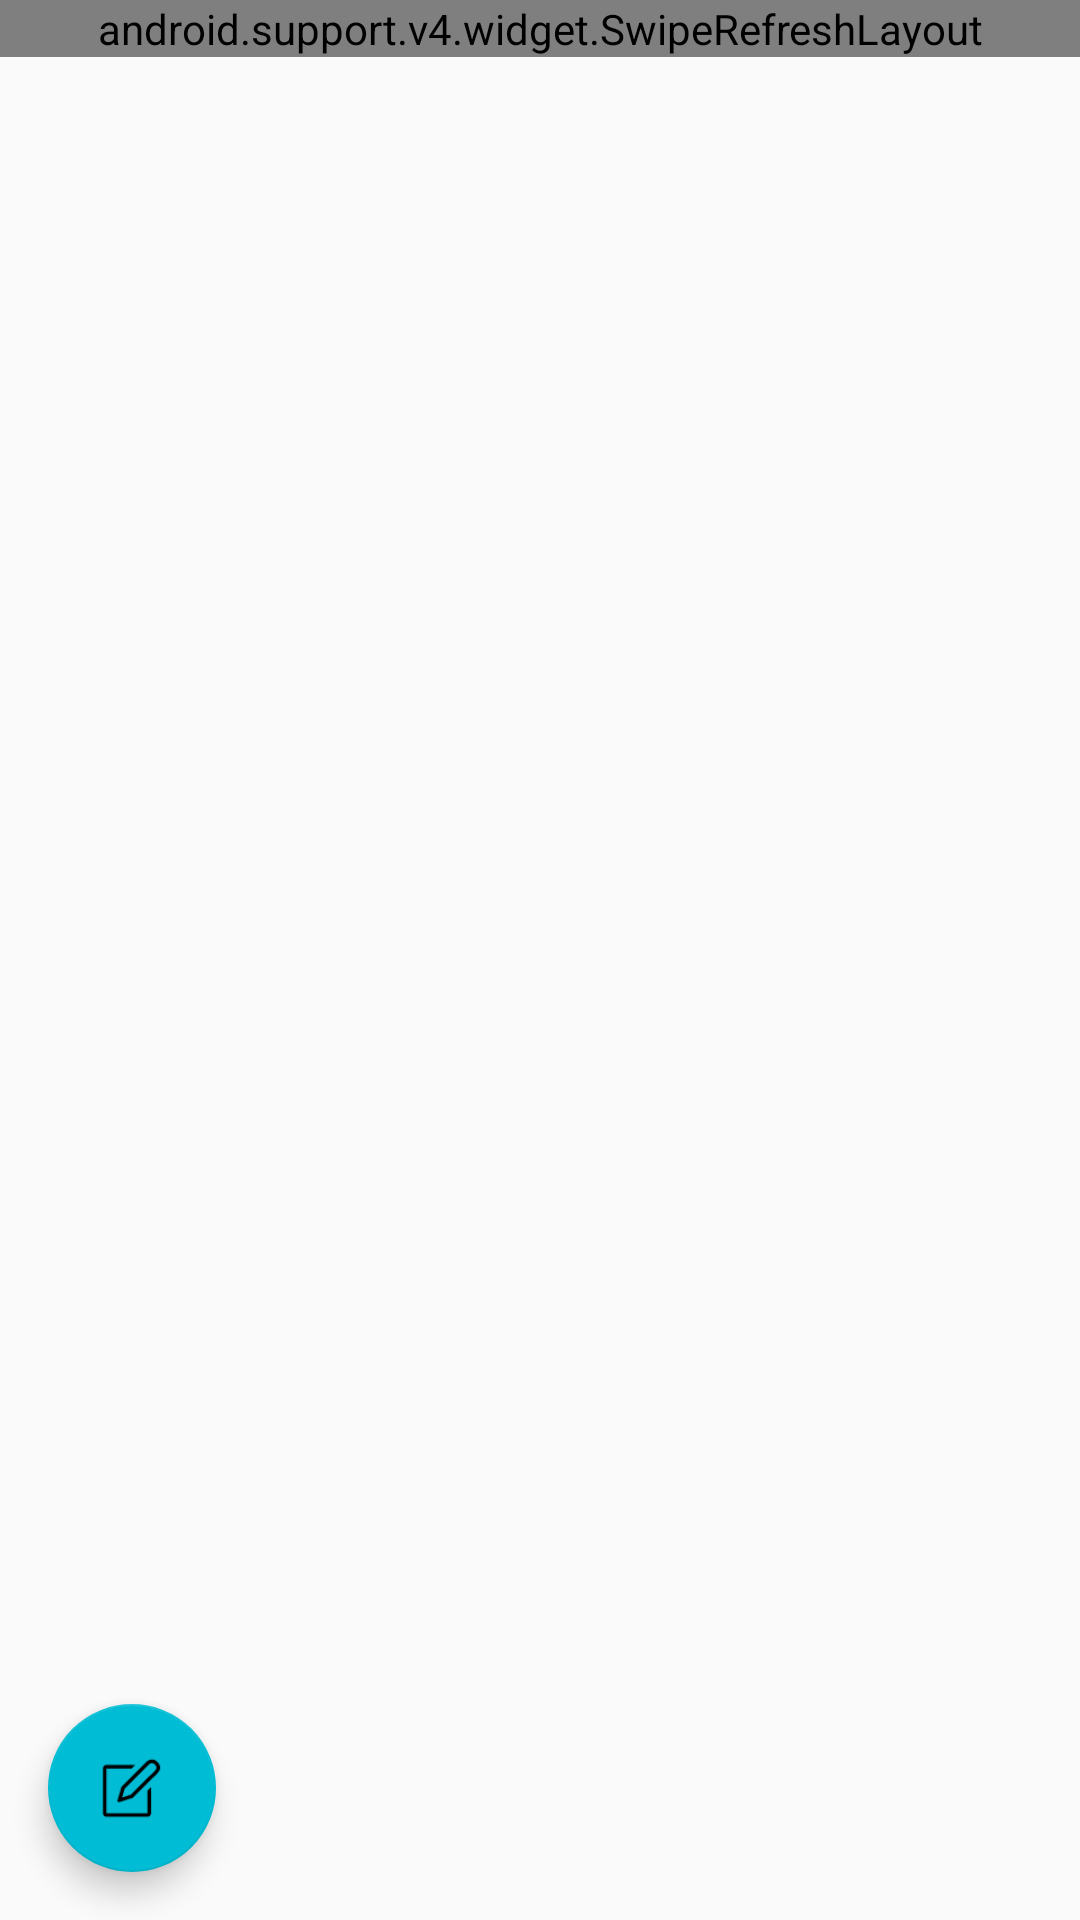

Icons on this 1080w x 1920h Android screen, each with its box as (x1, y1, x2, y2):
edit: (48, 1704, 216, 1872)
